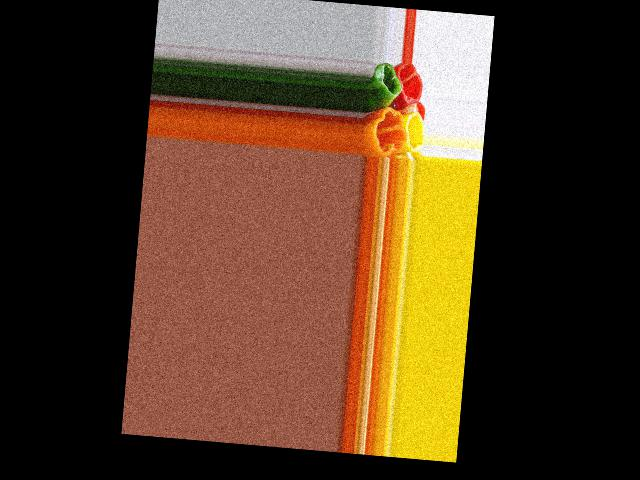bell_pepper: (396, 64, 425, 105)
